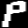P: (0, 0, 28, 28)
